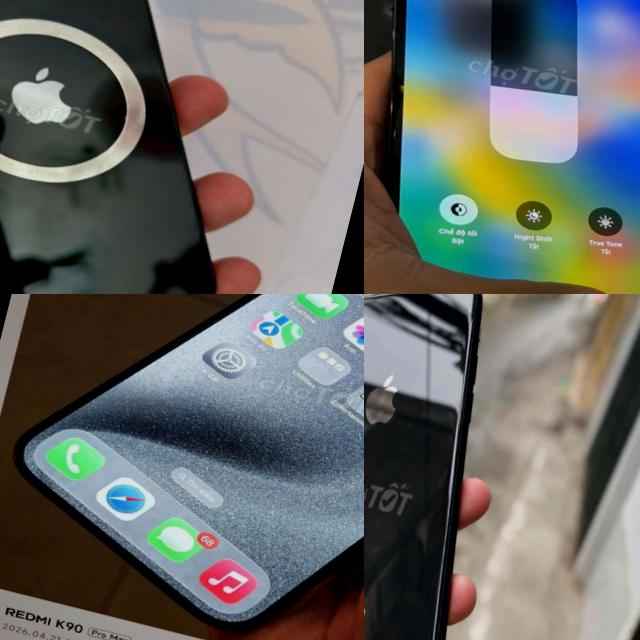gen_12_13: (0, 0, 304, 294), (364, 0, 640, 294)
gen_15: (0, 294, 364, 640)
gen_x_xs: (364, 294, 481, 640)
